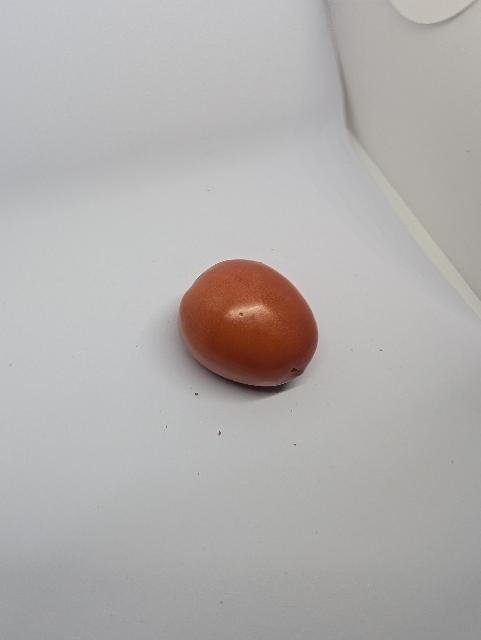red: (177, 256, 322, 391)
